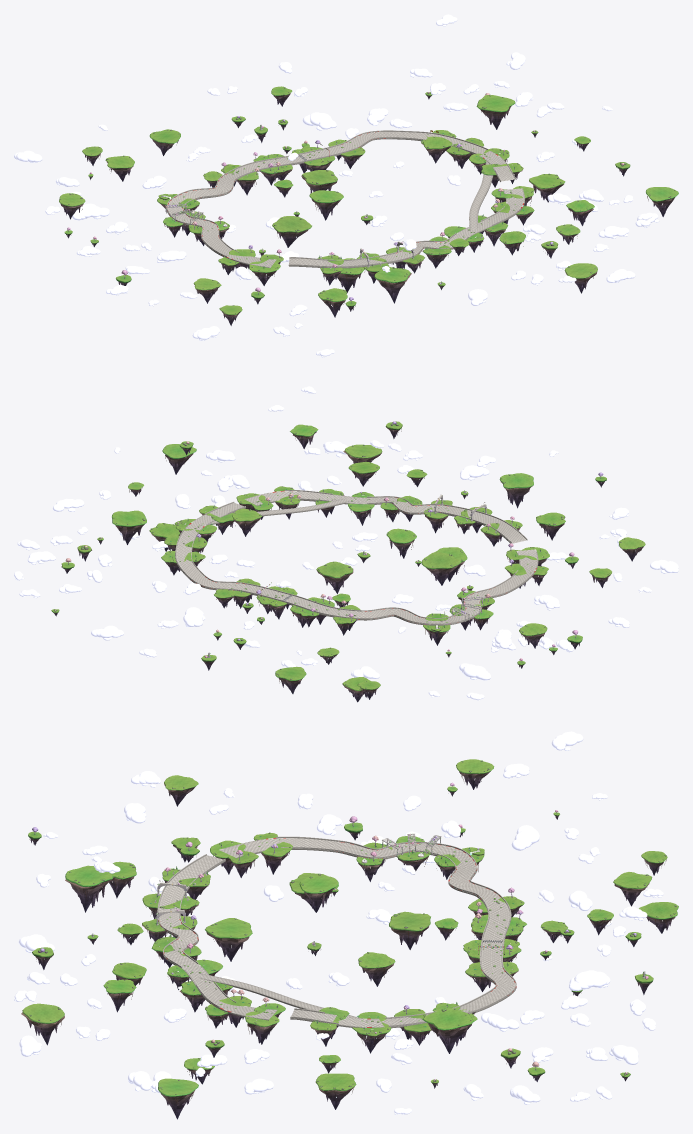
File: jardim-celeste.glb
The picture shows the model from 3 angles, top to bottom: view 1: azimuth 30°, elevation 25°; view 2: azimuth 150°, elevation 25°; view 3: azimuth 270°, elevation 25°; orthographic projection. The views are drawn at different scales.
Parts seen in each view (by area): view 1: sec2_props, sec4_props, sec9_props, sec5_props, sec11_props, sec7_props, sec6_props, sec0_props, sec3_props, sec8_props, sec10_props, sec1_props (+12 smaller); view 2: sec2_props, sec5_props, sec4_props, sec9_props, sec11_props, sec7_props, sec6_props, sec1_props, sec0_props, sec3_props, sec10_props, sec8_props (+13 smaller); view 3: sec2_props, sec4_props, sec6_props, sec5_props, sec7_props, sec11_props, sec3_props, sec9_props, sec0_props, sec1_props, sec10_props, sec8_props (+13 smaller).
Part boxes in pixels (box(x1,y1,x2,y2)): sec2_props: box(423, 52, 612, 202); sec4_props: box(460, 195, 659, 293); sec9_props: box(59, 193, 311, 274); sec5_props: box(309, 190, 576, 285); sec11_props: box(105, 86, 293, 197); sec7_props: box(192, 249, 356, 357); sec6_props: box(335, 239, 487, 305); sec0_props: box(254, 62, 383, 197); sec3_props: box(481, 162, 678, 216); sec8_props: box(106, 245, 265, 325); sec10_props: box(14, 124, 298, 229); sec1_props: box(311, 14, 509, 168); sec2_props: box(27, 447, 262, 564); sec5_props: box(340, 421, 427, 565); sec4_props: box(206, 386, 382, 519); sec9_props: box(415, 552, 573, 668); sec11_props: box(243, 580, 379, 702); sec7_props: box(463, 472, 678, 576); sec6_props: box(424, 450, 558, 581); sec1_props: box(14, 539, 238, 657); sec0_props: box(183, 541, 342, 670); sec3_props: box(162, 441, 273, 534); sec10_props: box(355, 544, 511, 700); sec8_props: box(467, 537, 651, 649); sec2_props: box(315, 952, 540, 1114); sec4_props: box(19, 970, 251, 1092); sec6_props: box(18, 832, 252, 961); sec5_props: box(14, 876, 349, 1001); sec7_props: box(28, 771, 283, 901); sec11_props: box(435, 853, 678, 961); sec3_props: box(158, 997, 349, 1119); sec9_props: box(289, 759, 494, 912); sec0_props: box(366, 889, 653, 996); sec1_props: box(432, 995, 655, 1101); sec10_props: box(375, 731, 667, 924); sec8_props: box(164, 775, 362, 874).
Bounding box in the file's own units: 686 × 123 × 603.
20 materials, 8 textured.
